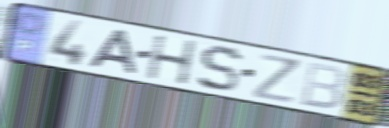4: (46, 17, 90, 69)
A: (87, 27, 139, 77)
B: (297, 60, 348, 112)
H: (145, 33, 199, 87)
S: (195, 44, 244, 95)
Z: (252, 51, 302, 106)
